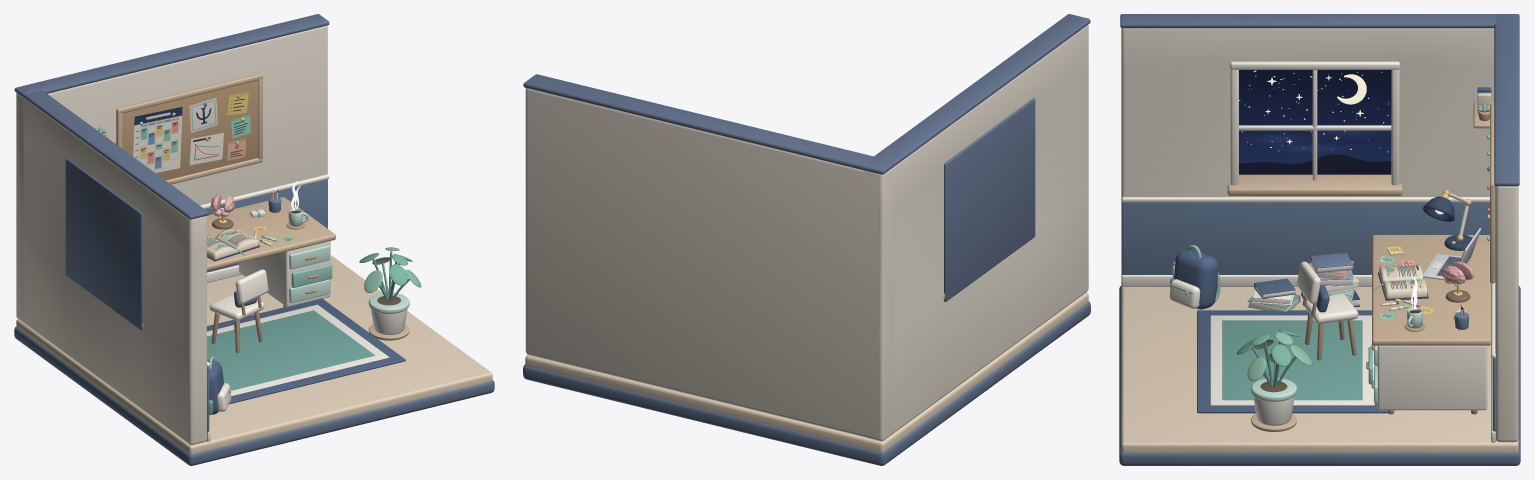
File: desk.glb
3 renders of one model, left to right at view 1: azimuth 30°, elevation 25°; view 2: azimuth 150°, elevation 25°; view 3: azimuth 270°, elevation 25°, orthographic. The views are drawn at different scales.
Visible parts, largest first — view 1: LeftWallSeamless, BackWall, FloorSlab, WindowOuterBack, RugCenter, FloorBaseRim, CorkSurface, BackWallTopCap, DeskTopSlab, LeftWallTopCap, RugMain, CorkTimetable (+17 smaller); view 2: BackWall, LeftWallSeamless, WindowOuterBack, FloorBaseRim, FloorSlab, BackWallTopCap, LeftWallTopCap; view 3: LeftWallSeamless, FloorSlab, LeftWallWainscot, NightSkyBackdrop, DeskTopSlab, RugCenter, DeskCabinet, FloorBaseRim, BackWall, LeftWallTopCap, BackWallTopCap, WinFrame_Bot (+21 smaller).
Boxes of the visible parts, x1,y1,x2,y2 form: LeftWallSeamless: (16,93,206,445); BackWall: (17,25,327,320); FloorSlab: (16,255,492,454); WindowOuterBack: (65,158,142,330); RugCenter: (207,310,375,390); FloorBaseRim: (14,327,494,465); CorkSurface: (122,80,257,180); BackWallTopCap: (22,14,329,94); DeskTopSlab: (207,197,335,270); LeftWallTopCap: (14,84,208,219); RugMain: (207,299,405,404); CorkTimetable: (133,107,182,172); BackWall: (525,88,892,437); LeftWallSeamless: (864,25,1088,441); WindowOuterBack: (944,98,1035,301); FloorBaseRim: (523,301,1090,465); FloorSlab: (525,292,1088,451); BackWallTopCap: (523,74,895,174); LeftWallTopCap: (862,14,1090,173); LeftWallSeamless: (1121,28,1494,281); FloorSlab: (1121,282,1518,452); LeftWallWainscot: (1122,202,1489,274); NightSkyBackdrop: (1239,70,1391,174); DeskTopSlab: (1372,235,1490,345); RugCenter: (1222,320,1362,400); DeskCabinet: (1377,345,1487,410); FloorBaseRim: (1119,286,1520,465); BackWall: (1495,186,1518,442); LeftWallTopCap: (1120,14,1517,28); BackWallTopCap: (1494,14,1519,186); WinFrame_Bot: (1227,174,1402,195).
Size of the model in its own units: 4.1 by 3.21 by 4.1.
Materials: 52 (9 with a texture image).
